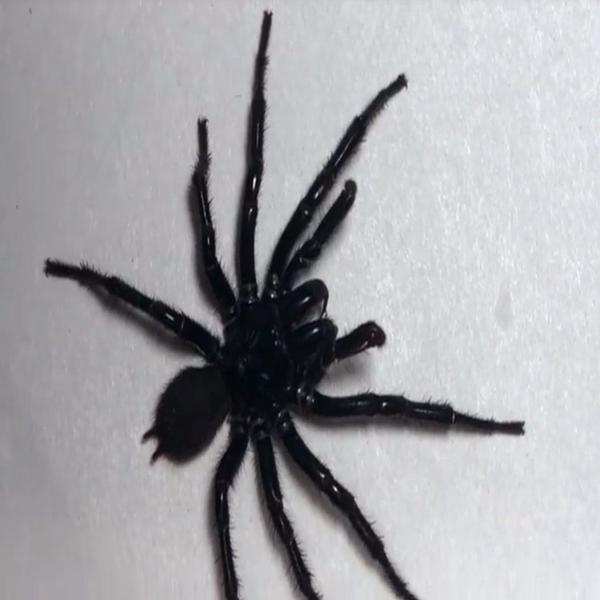Tarantula Spider: (62, 23, 517, 586)
